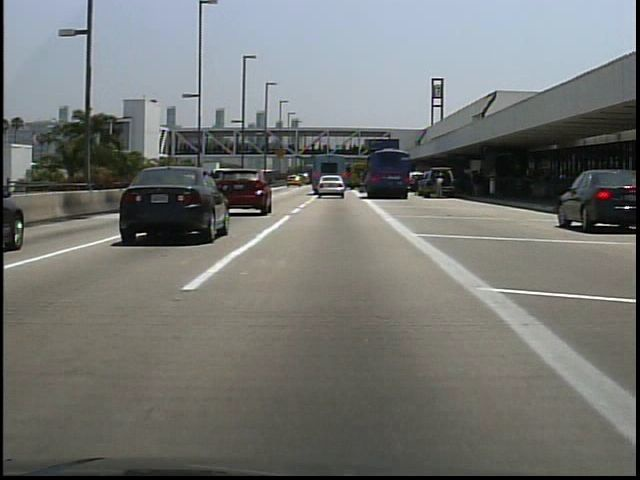person: (467, 166, 483, 202), (434, 173, 447, 202)
